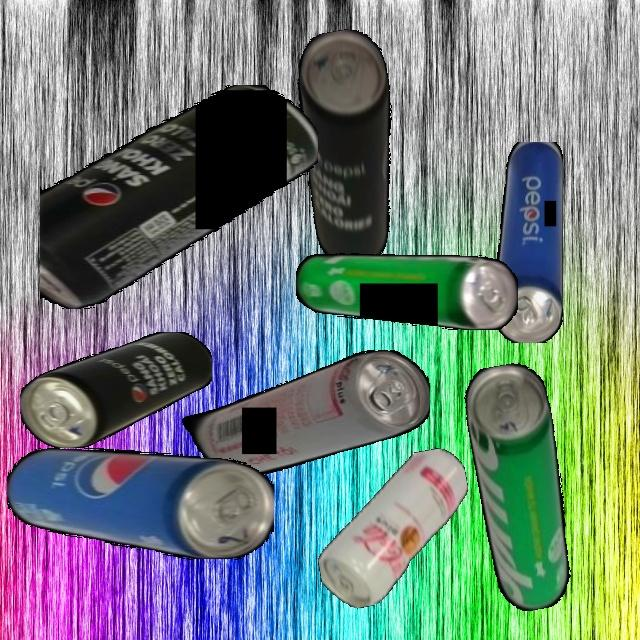debris: (39, 85, 318, 309), (283, 24, 419, 272), (459, 359, 584, 615), (181, 350, 430, 474), (303, 445, 485, 613), (6, 448, 274, 560), (20, 331, 212, 448), (295, 251, 518, 330), (493, 141, 563, 343)
